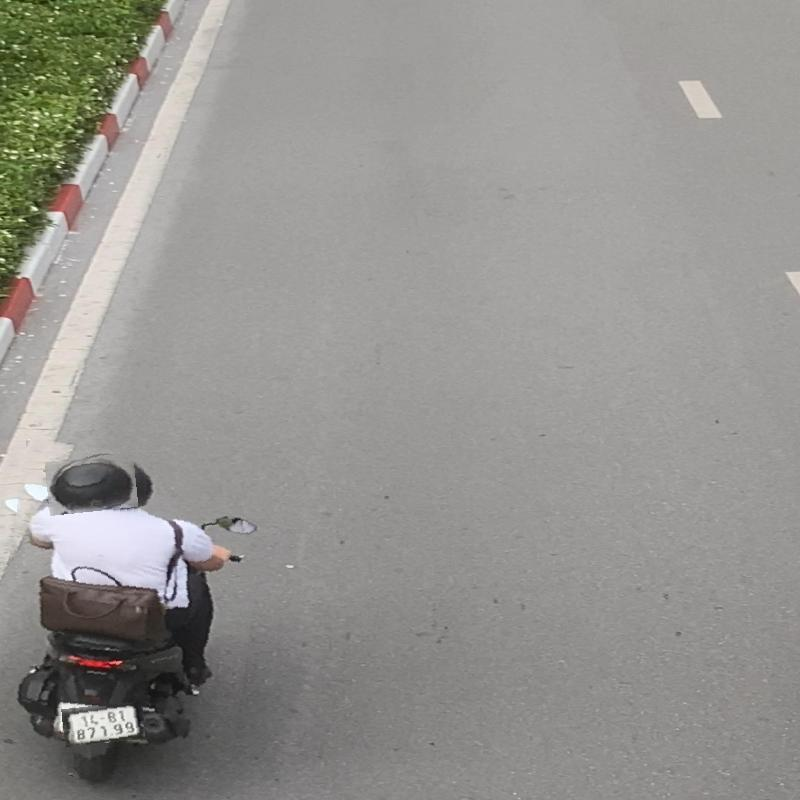helmet: (46, 456, 138, 514)
licenseplate: (62, 703, 144, 745)
motorcyclist: (0, 446, 260, 800)
